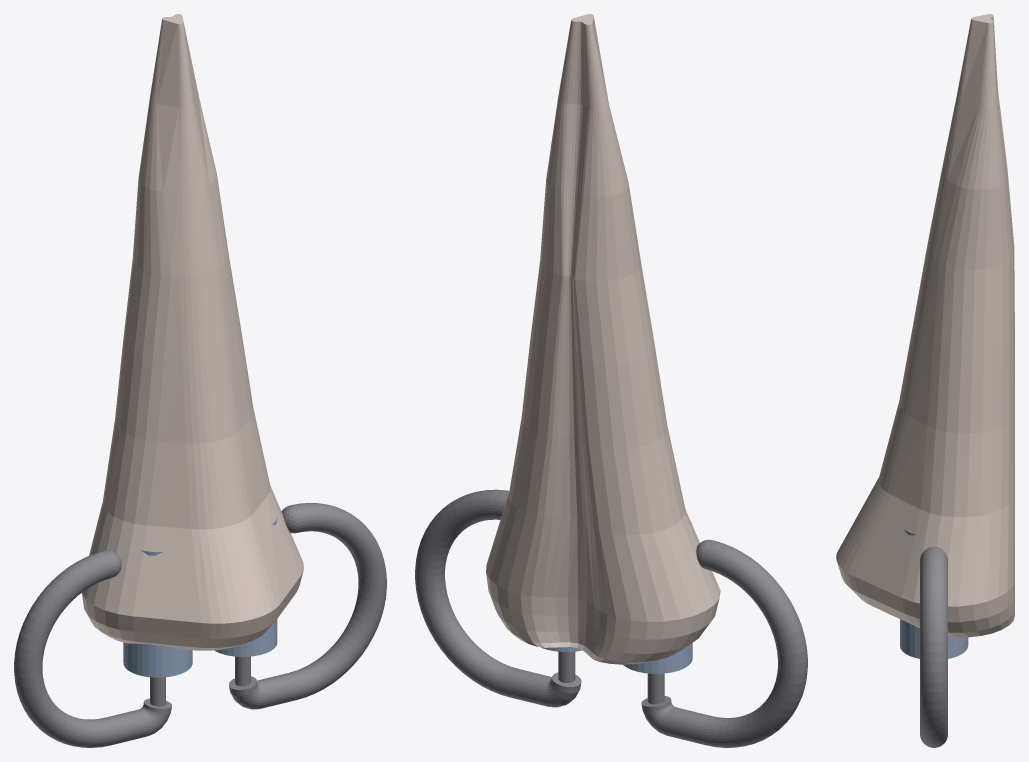
The model's file is candidate_low_pain.glb.
The picture shows the model from 3 angles, left to right: view 1: azimuth 30°, elevation 25°; view 2: azimuth 150°, elevation 25°; view 3: azimuth 270°, elevation 25°; orthographic projection. The views are drawn at different scales.
Visible parts, largest first — view 1: body, frame_left, frame_right, plug_left, plug_right; view 2: body, frame_left, frame_right, plug_left; view 3: body, frame_right, plug_right.
Boxes of the visible parts, left/top/right/bottom form: body: left=82, top=14, right=303, bottom=650; frame_left: left=14, top=550, right=171, bottom=747; frame_right: left=229, top=503, right=386, bottom=709; plug_left: left=123, top=550, right=192, bottom=677; plug_right: left=214, top=517, right=277, bottom=656; body: left=486, top=14, right=720, bottom=664; frame_left: left=641, top=539, right=807, bottom=747; frame_right: left=415, top=489, right=581, bottom=707; plug_left: left=623, top=522, right=692, bottom=673; body: left=836, top=14, right=1014, bottom=637; frame_right: left=920, top=546, right=947, bottom=747; plug_right: left=900, top=529, right=968, bottom=658.
Size of the model in its own units: 36.92 by 65.41 by 15.7.
